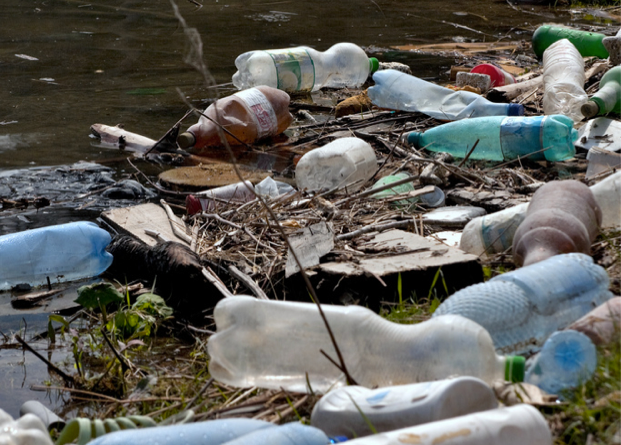bottle: (204, 294, 525, 388), (434, 252, 611, 330), (406, 115, 577, 161), (177, 85, 294, 147), (232, 43, 380, 91), (372, 69, 516, 118), (2, 219, 113, 282), (80, 421, 351, 445), (524, 331, 600, 395), (447, 204, 527, 252), (543, 38, 586, 124), (585, 63, 621, 116)
can: (190, 180, 254, 210)
